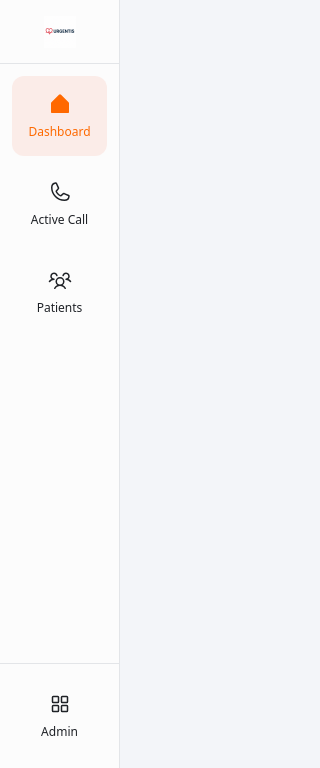
AppSidebar › should expand admin menu on hover
Hover over the text "Admin" at (60, 716), box [0, 663, 119, 767]
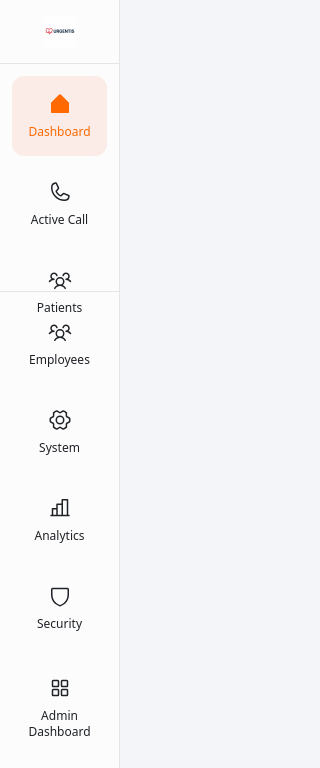
expect the text "Employees" is shown: met, box [29, 352, 90, 368]
expect the text "System" is shown: met, box [39, 440, 80, 456]
expect the text "Analytics" is shown: met, box [34, 528, 84, 544]
